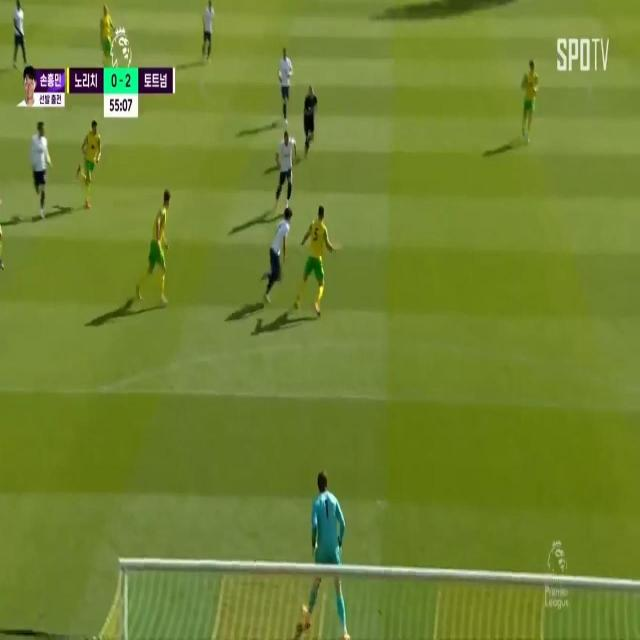player: (306, 199, 328, 312), (153, 190, 173, 301), (32, 112, 50, 222), (274, 204, 292, 297), (518, 57, 538, 131), (278, 120, 294, 202), (84, 121, 102, 188), (13, 0, 27, 67), (100, 3, 113, 74), (279, 45, 292, 110), (202, 0, 214, 62)
referee: (304, 84, 320, 142)
